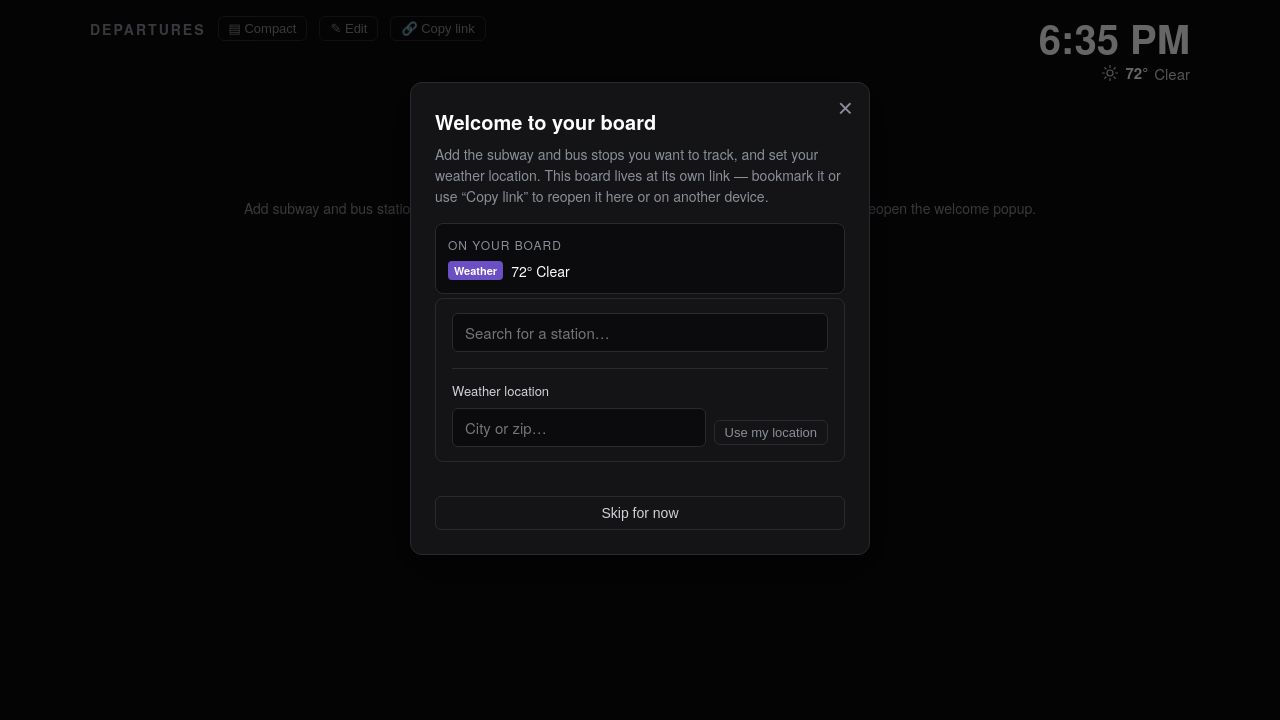
Scenario: App › dismisses the welcome popup via the skip button
This screenshot has width=1280, height=720.
Expected: the dialog named "set up your board" is shown, [410, 82, 870, 555]
Click the button "Skip for now": (640,513) [435, 496, 845, 530]
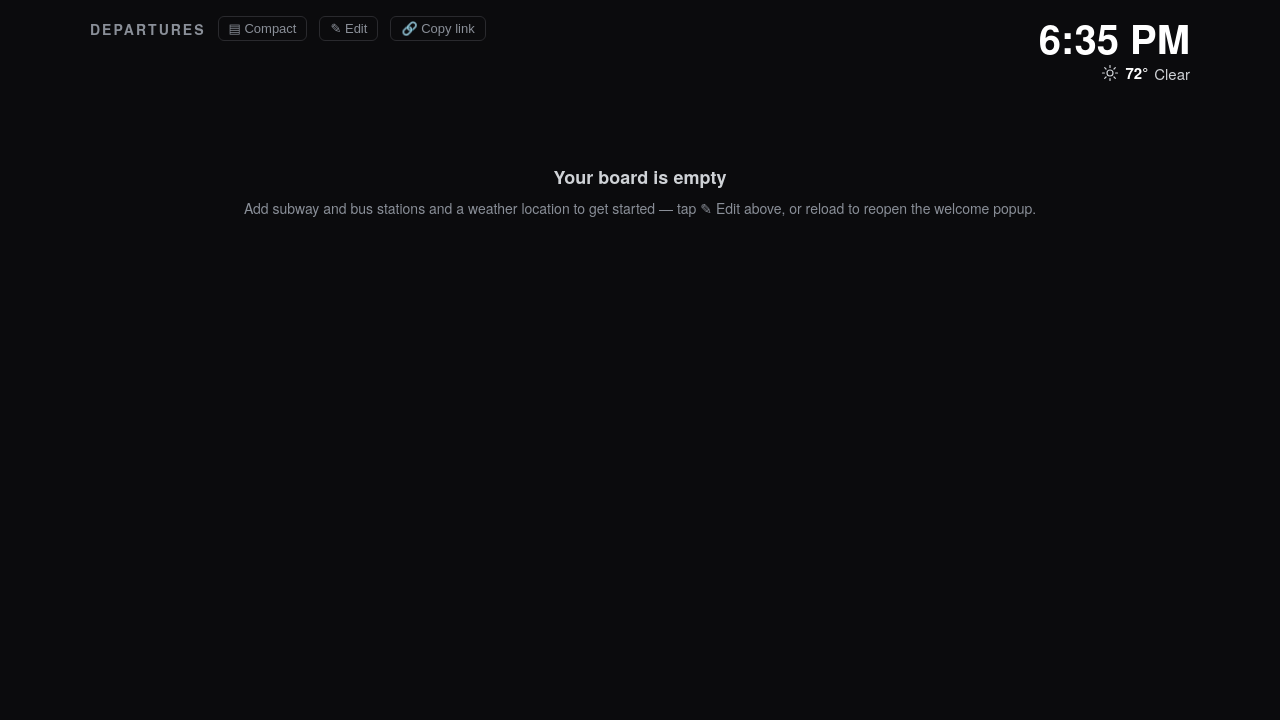
Result: the dialog is gone
